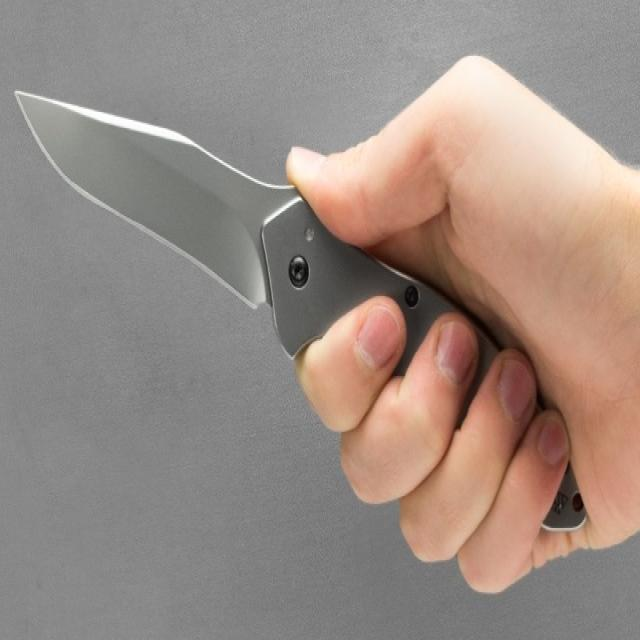knife: (14, 86, 594, 540)
